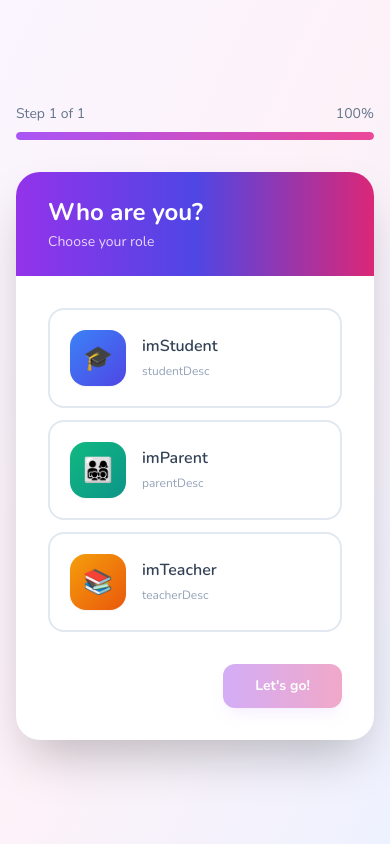
it: OnboardingPage › proceeds to name step after selecting student and clicking Next
Click the text "imStudent" at (180, 346), box 142,334 -> 218,358
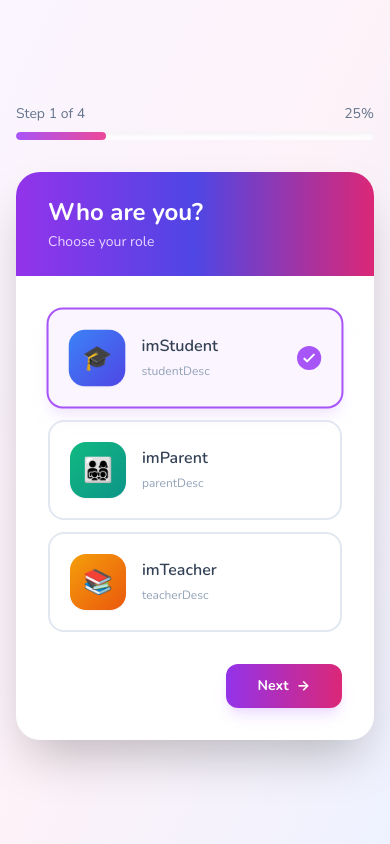
Click the button "Next →" at (284, 686), box 226,664 -> 342,708
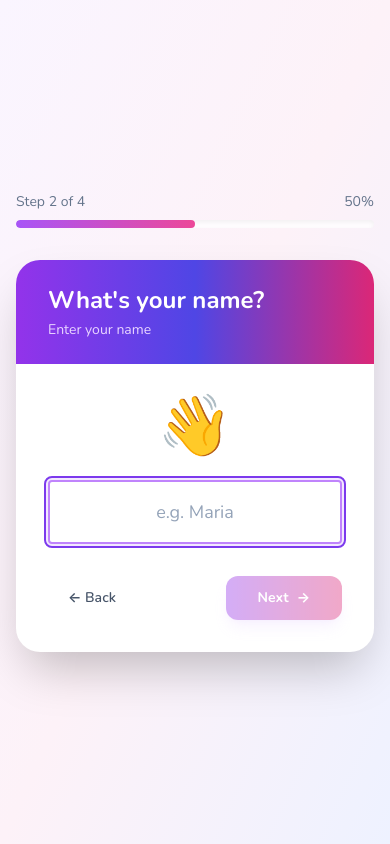
Check: the heading "What's your name?" is shown, box 48,284 -> 264,316
